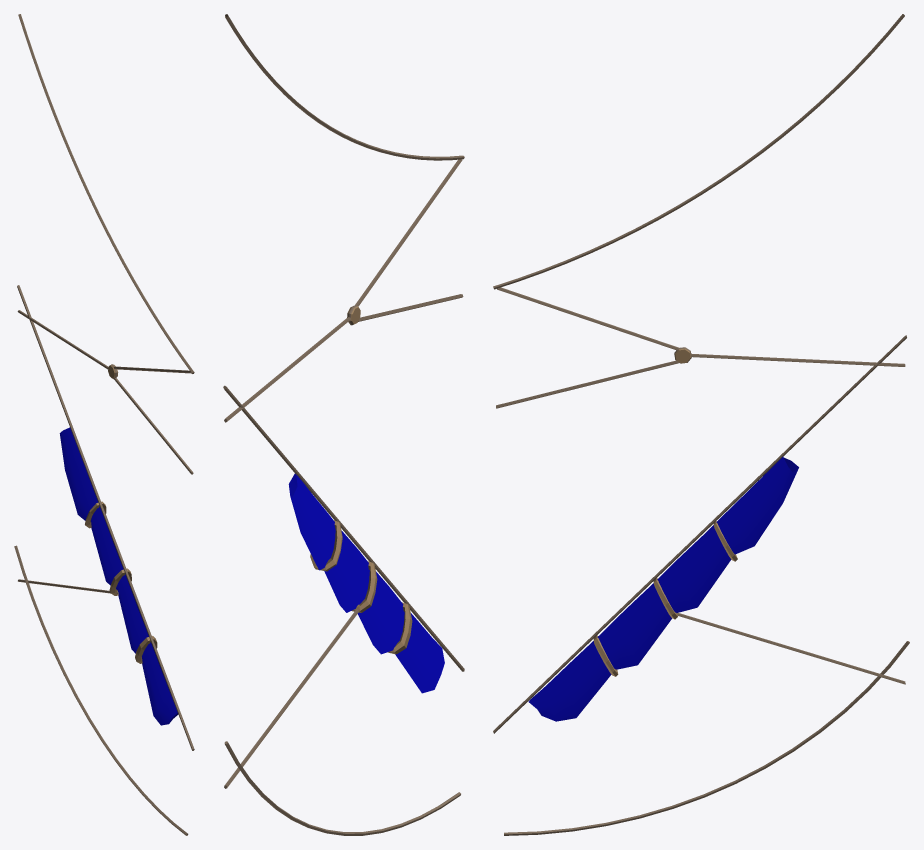
The model's file is SM_Veh_Ship_L_01_Rigging_Middle_01_Tied_01.fbx.
The picture shows the model from 3 angles, left to right: view 1: azimuth 30°, elevation 25°; view 2: azimuth 150°, elevation 25°; view 3: azimuth 270°, elevation 25°; orthographic projection. The views are drawn at different scales.
Parts seen in each view (by area): view 1: SM_Veh_Ship_L_01_Rigging_Middle_01_Tied_01; view 2: SM_Veh_Ship_L_01_Rigging_Middle_01_Tied_01; view 3: SM_Veh_Ship_L_01_Rigging_Middle_01_Tied_01.
Part boxes in pixels (box(x1,y1,x2,y2)): SM_Veh_Ship_L_01_Rigging_Middle_01_Tied_01: box(14, 14, 194, 835); SM_Veh_Ship_L_01_Rigging_Middle_01_Tied_01: box(223, 14, 464, 835); SM_Veh_Ship_L_01_Rigging_Middle_01_Tied_01: box(493, 14, 909, 835).
Bounding box in the file's own units: 68.68 × 2332 × 1071.
